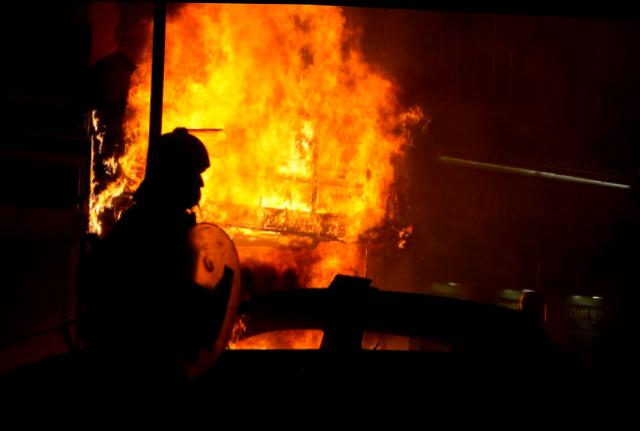fire: (82, 1, 412, 271), (223, 322, 329, 352)
